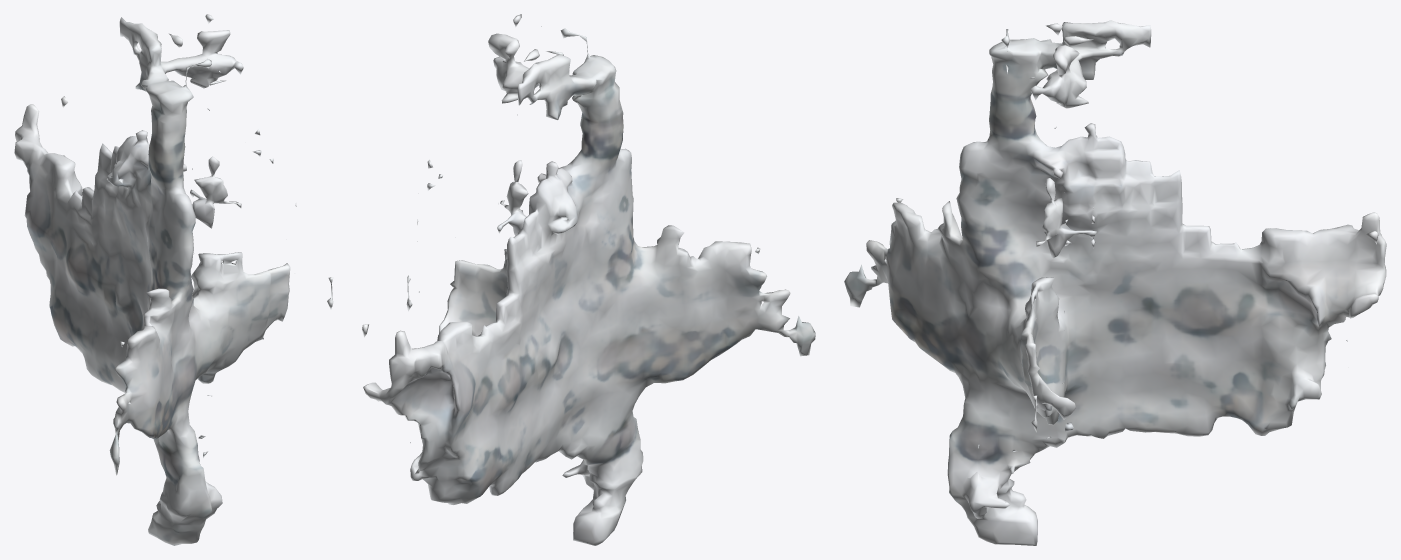
Rendered from glass_1.glb.
3 views of the same model, side by side, from view 1: azimuth 30°, elevation 25°; view 2: azimuth 150°, elevation 25°; view 3: azimuth 270°, elevation 25° (orthographic). The views are drawn at different scales.
Parts seen in each view (by area): view 1: lagrange_node; view 2: lagrange_node; view 3: lagrange_node.
Part boxes in pixels (bbox=[...]): lagrange_node: bbox=[14, 14, 333, 545]; lagrange_node: bbox=[362, 14, 815, 545]; lagrange_node: bbox=[844, 20, 1386, 545].
Bounding box in the file's own units: 0.8431 × 1.32 × 1.19.
Materials: 1 (1 with a texture image).
